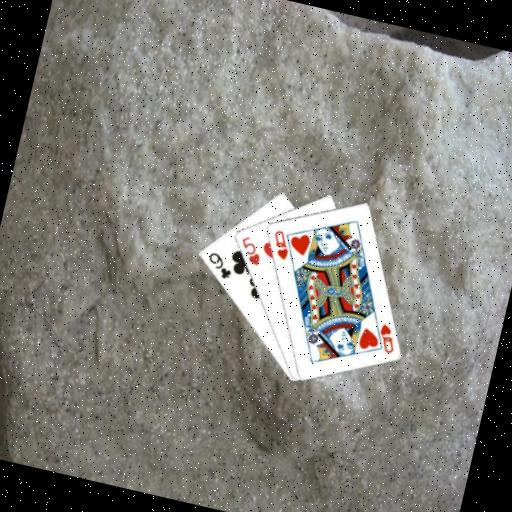5H: (234, 231, 267, 268)
9C: (201, 248, 237, 283)
QH: (366, 318, 401, 356), (266, 226, 294, 263)
